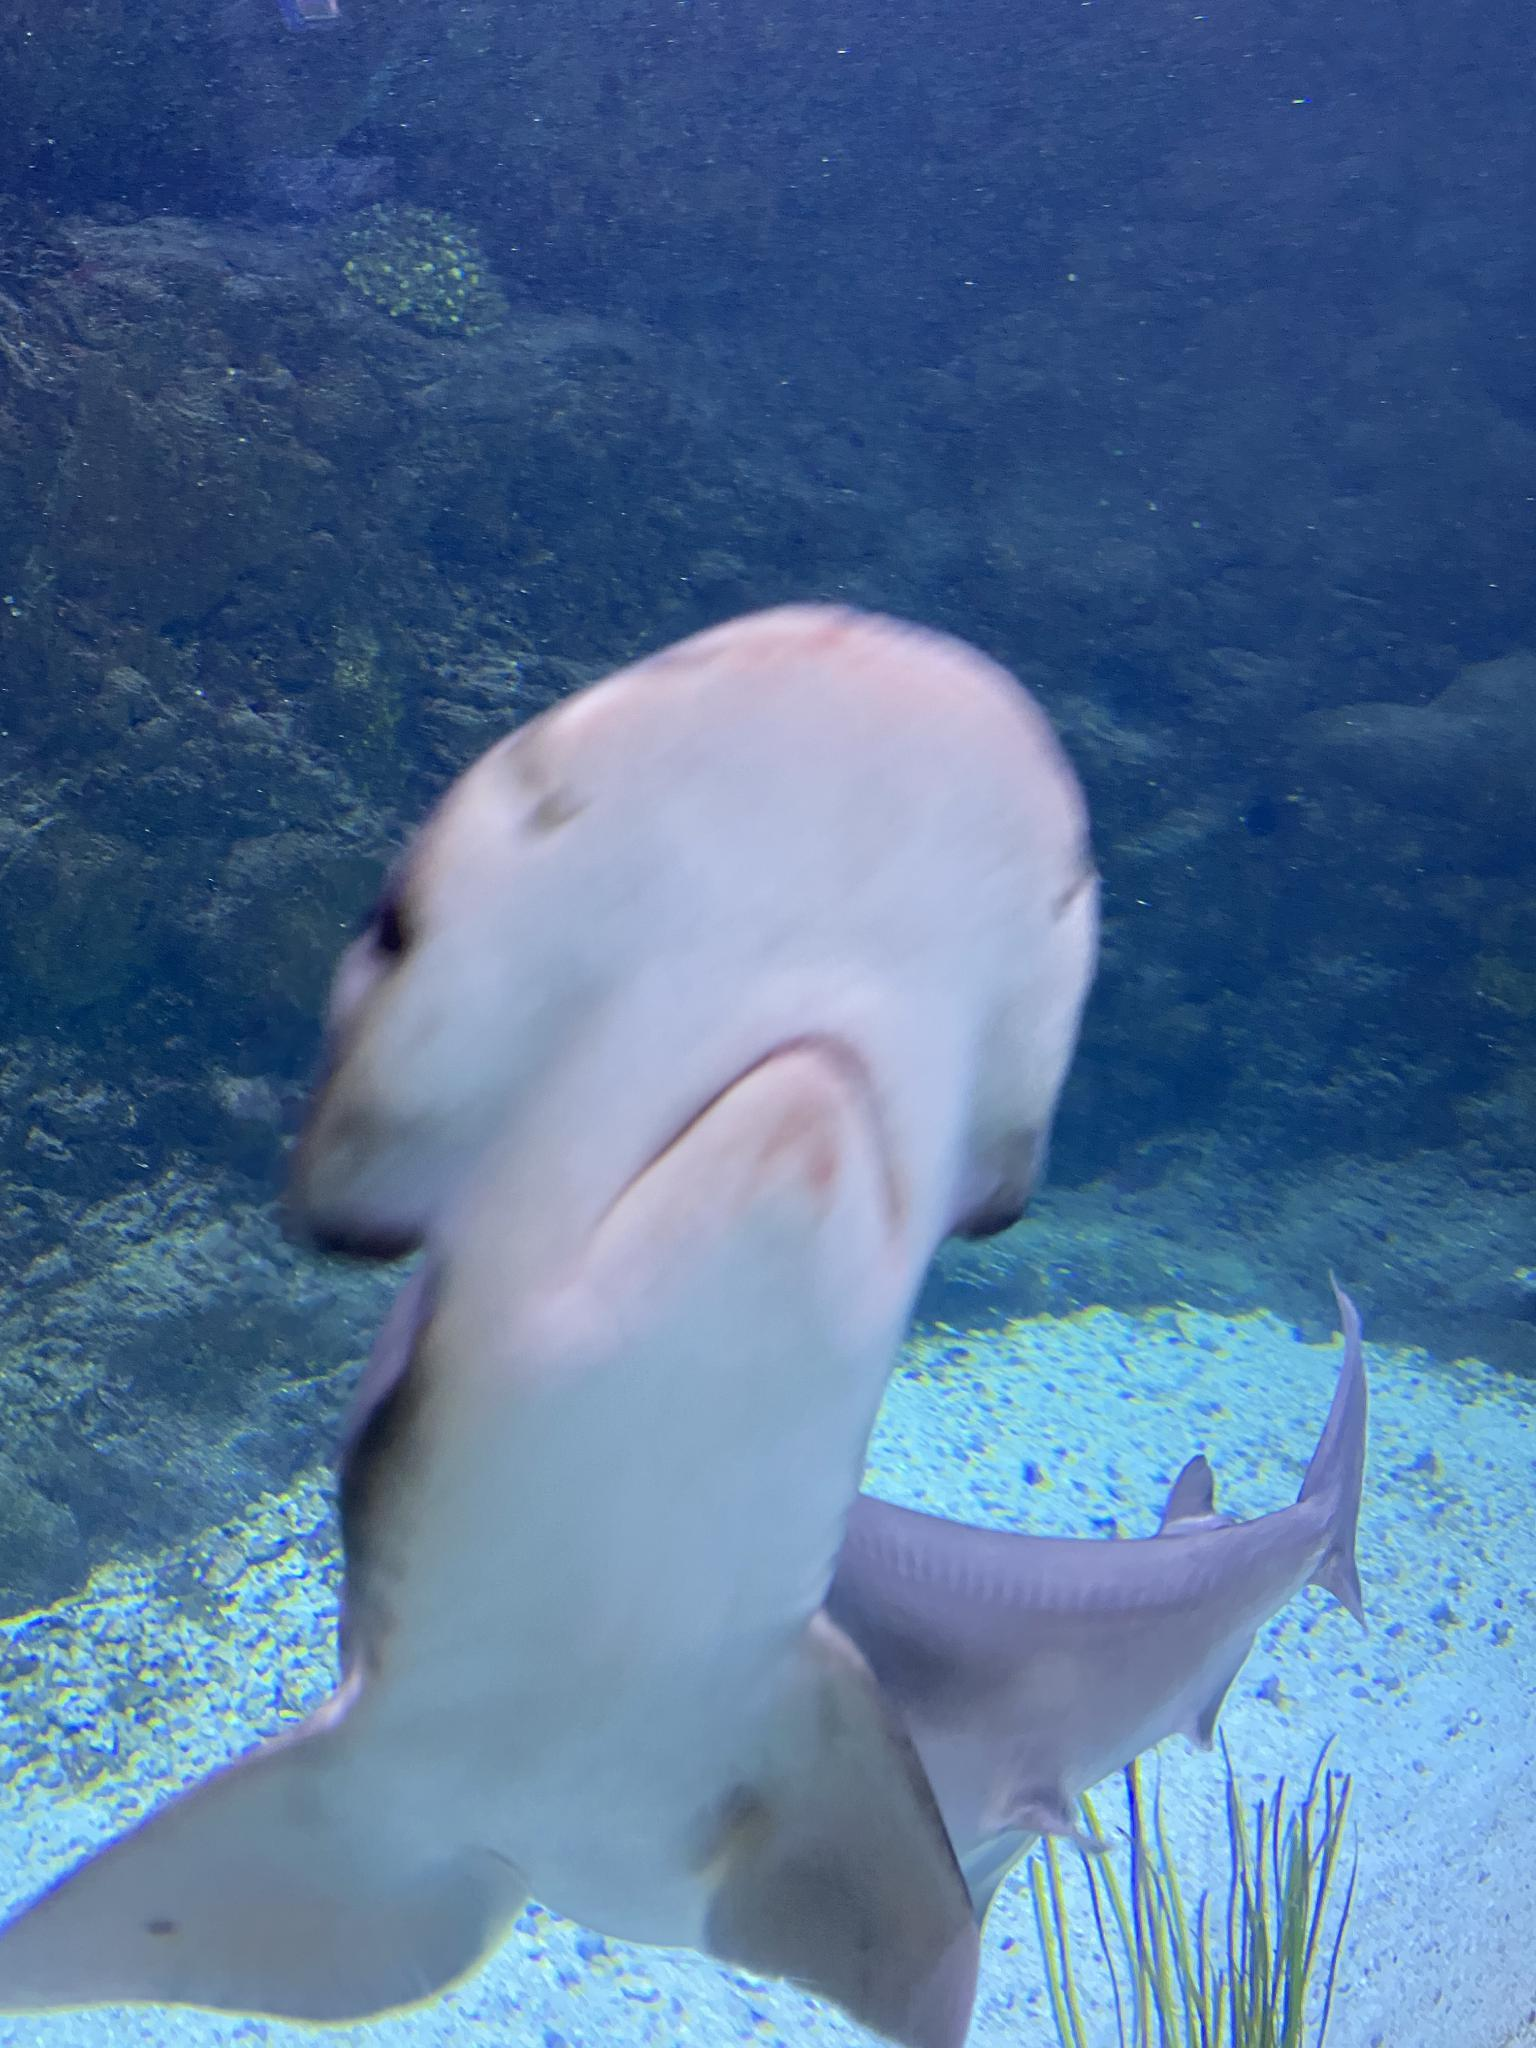shark: (0, 601, 1371, 2046)
